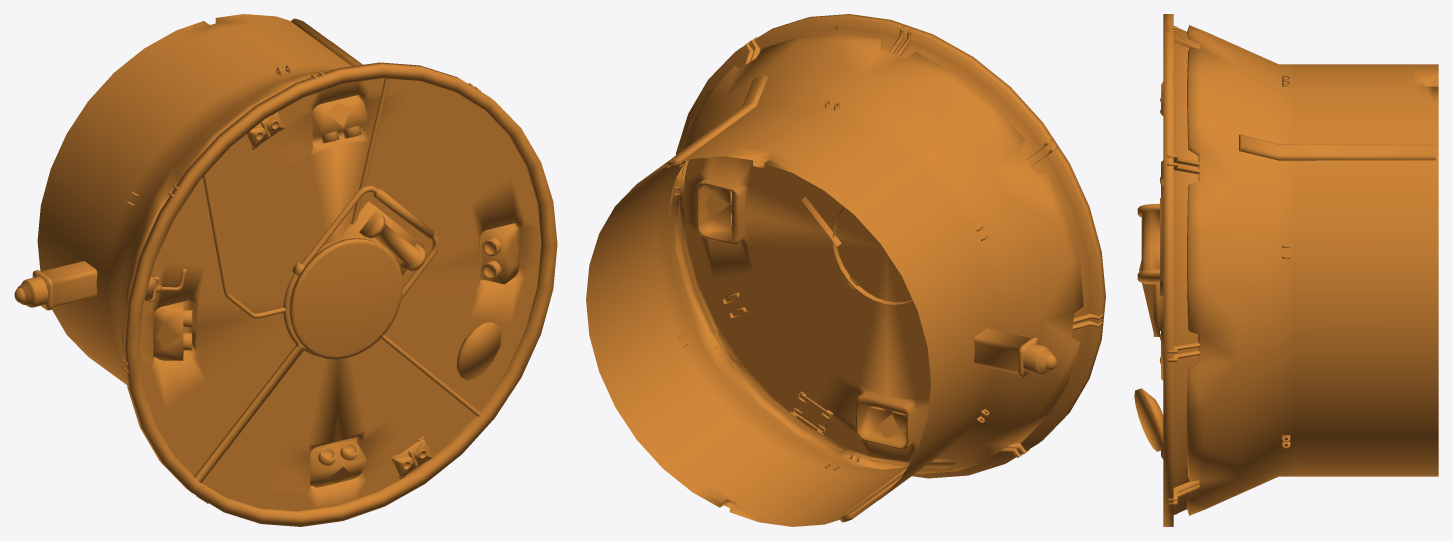
File: Aggregate compartment.fbx
3 views of the same model, side by side, from view 1: azimuth 30°, elevation 25°; view 2: azimuth 150°, elevation 25°; view 3: azimuth 270°, elevation 25° (orthographic). The views are drawn at different scales.
Visible parts, largest first — view 1: Aggregate compartment; view 2: Aggregate compartment; view 3: Aggregate compartment.
Boxes of the visible parts, x1=… form: Aggregate compartment: x1=14, y1=14, x2=557, y2=526; Aggregate compartment: x1=586, y1=14, x2=1105, y2=526; Aggregate compartment: x1=1134, y1=14, x2=1438, y2=526.
Bounding box in the file's own units: 334 × 311 × 184.
